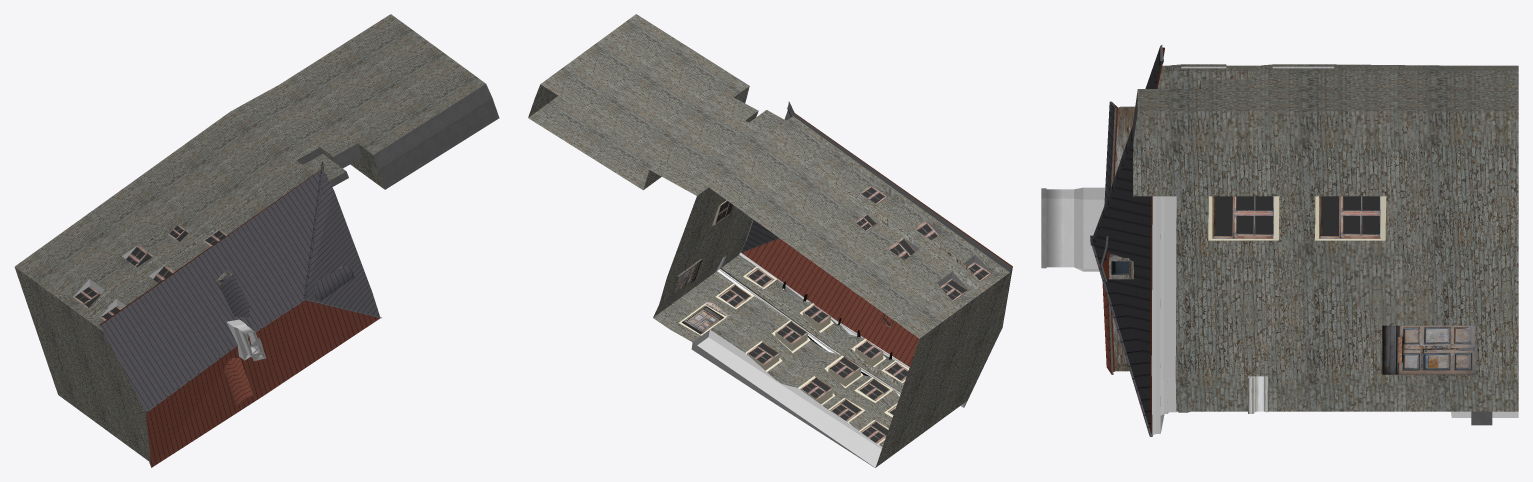
File: Kooli_9-origo.obj
3 renders of one model, left to right at view 1: azimuth 30°, elevation 25°; view 2: azimuth 150°, elevation 25°; view 3: azimuth 270°, elevation 25°, orthographic. The views are drawn at different scales.
Parts seen in each view (by area): view 1: Kooli_9; view 2: Kooli_9; view 3: Kooli_9.
Part boxes in pixels (bbox=[...]): Kooli_9: bbox=[14, 14, 499, 467]; Kooli_9: bbox=[528, 14, 1012, 467]; Kooli_9: bbox=[1041, 45, 1518, 436].
Size of the model in its own units: 28.06 by 21 by 14.8.
